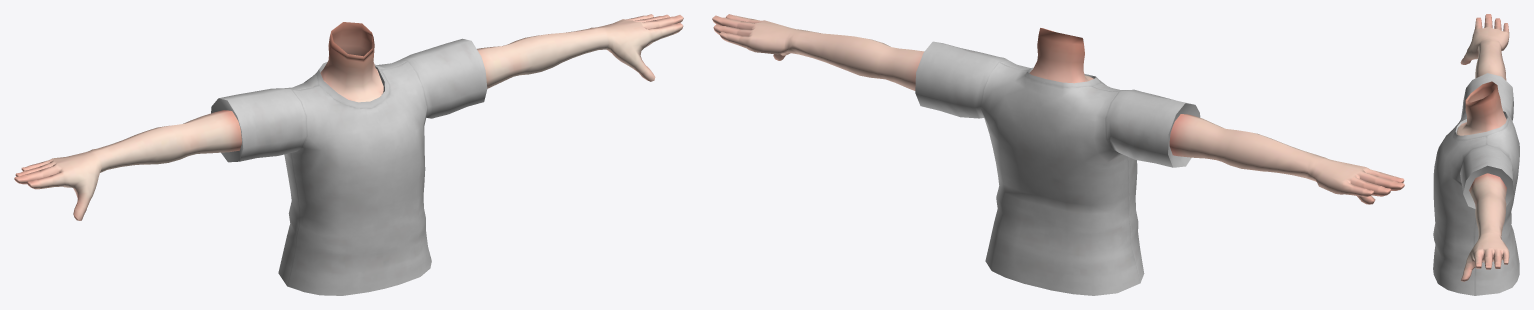
File: tr0760_00_upb01.gltf
3 views of the same model, side by side, from view 1: azimuth 30°, elevation 25°; view 2: azimuth 150°, elevation 25°; view 3: azimuth 270°, elevation 25° (orthographic). The views are drawn at different scales.
Visible parts, largest first — view 1: upb01_upperbody_mesh_shape:upperbody01, upb01_upperbodyskin_mesh_shape:upperbody01_skin; view 2: upb01_upperbody_mesh_shape:upperbody01, upb01_upperbodyskin_mesh_shape:upperbody01_skin; view 3: upb01_upperbody_mesh_shape:upperbody01, upb01_upperbodyskin_mesh_shape:upperbody01_skin.
Part boxes in pixels (left/top/right/bottom): upb01_upperbody_mesh_shape:upperbody01: left=211, top=38, right=487, bottom=295; upb01_upperbodyskin_mesh_shape:upperbody01_skin: left=14, top=14, right=683, bottom=220; upb01_upperbody_mesh_shape:upperbody01: left=915, top=41, right=1200, bottom=295; upb01_upperbodyskin_mesh_shape:upperbody01_skin: left=712, top=14, right=1404, bottom=204; upb01_upperbody_mesh_shape:upperbody01: left=1433, top=73, right=1519, bottom=295; upb01_upperbodyskin_mesh_shape:upperbody01_skin: left=1456, top=14, right=1509, bottom=281.
Size of what is drawn, in the model's own units: 1.63 by 0.5525 by 0.2365.
Materials: 2 (2 with a texture image).
